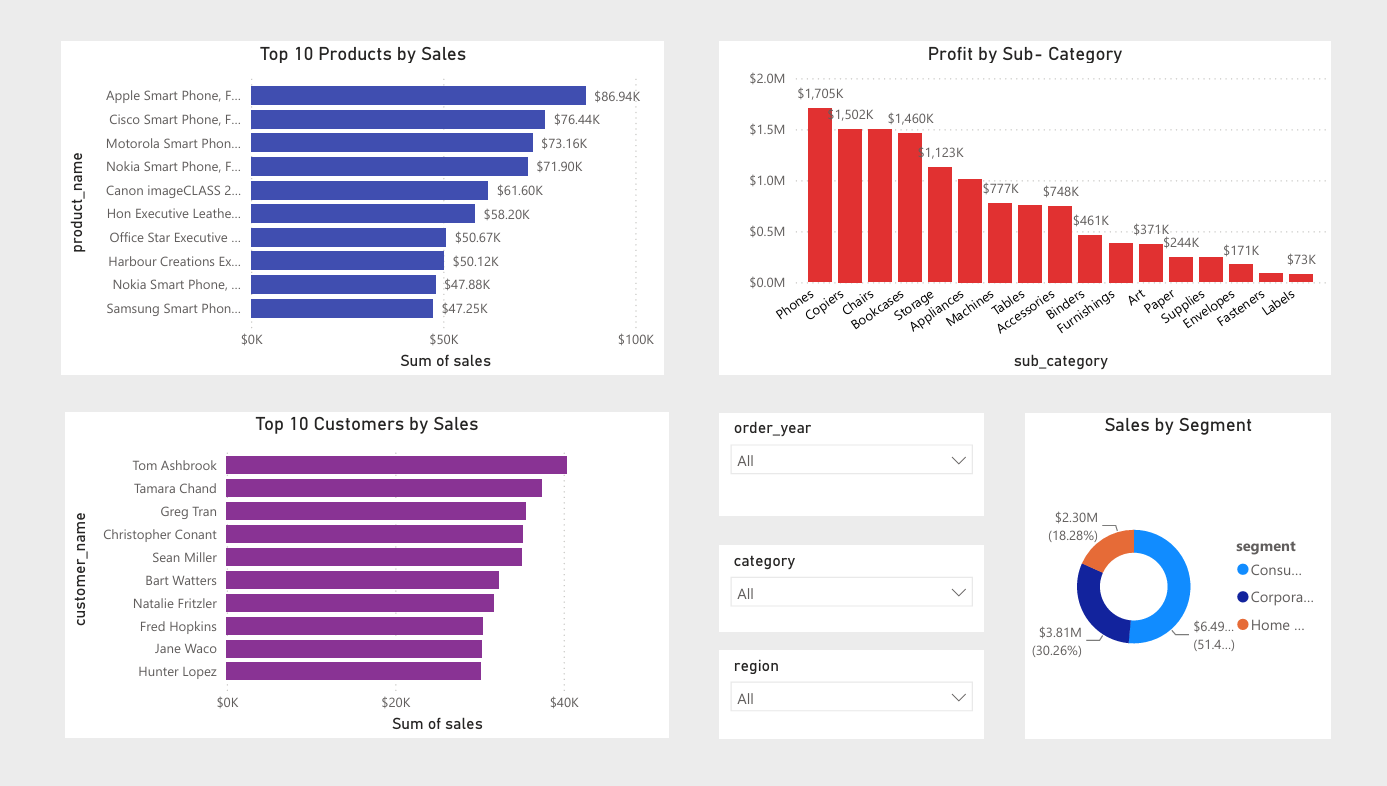

This screenshot's page, from the dashboard's own definition file:
{"tool":"powerbi","page":{"name":"Page 3","canvas":[1280,720],"ordinal":2},"visuals":[{"type":"clusteredBarChart","title":"Top 10 Products by Sales","fields":{"Category":["dataanlystdata.product_name"],"Y":["Sum(dataanlystdata.sales)"]},"box":[62.5,42.5,547.5,302.5],"z":0},{"type":"clusteredBarChart","title":"Top 10 Customers by Sales ","fields":{"Category":["dataanlystdata.customer_name"],"Y":["Sum(dataanlystdata.sales)"]},"box":[66,379.1,547.8,294.7],"z":1000},{"type":"clusteredColumnChart","title":"Profit by Sub- Category","fields":{"Category":["dataanlystdata.sub_category"],"Y":["Sum(dataanlystdata.sales)"]},"box":[660,42.5,555,302.5],"z":2000},{"type":"donutChart","title":"Sales by Segment ","fields":{"Category":["dataanlystdata.segment"],"Y":["Sum(dataanlystdata.sales)"]},"box":[937.5,380,277.5,295],"z":3000},{"type":"slicer","fields":{"Values":["dataanlystdata.order_year"]},"box":[660,380,240,92.5],"z":4000},{"type":"slicer","fields":{"Values":["dataanlystdata.region"]},"box":[660,595,240,80],"z":5000},{"type":"slicer","fields":{"Values":["dataanlystdata.category"]},"box":[660,500,240,77.5],"z":6000}]}

Visuals, with their boxes in screenshot pixels (x1, y1, x2, y2), scaled from the page's 1280x720 canvas onto the 1387x786 screenshot:
"Top 10 Products by Sales" clusteredBarChart: (68,46,661,377)
"Top 10 Customers by Sales " clusteredBarChart: (72,414,665,736)
"Profit by Sub- Category" clusteredColumnChart: (715,46,1317,377)
"Sales by Segment " donutChart: (1016,415,1317,737)
slicer - dataanlystdata.order_year: (715,415,975,516)
slicer - dataanlystdata.region: (715,650,975,737)
slicer - dataanlystdata.category: (715,546,975,630)
